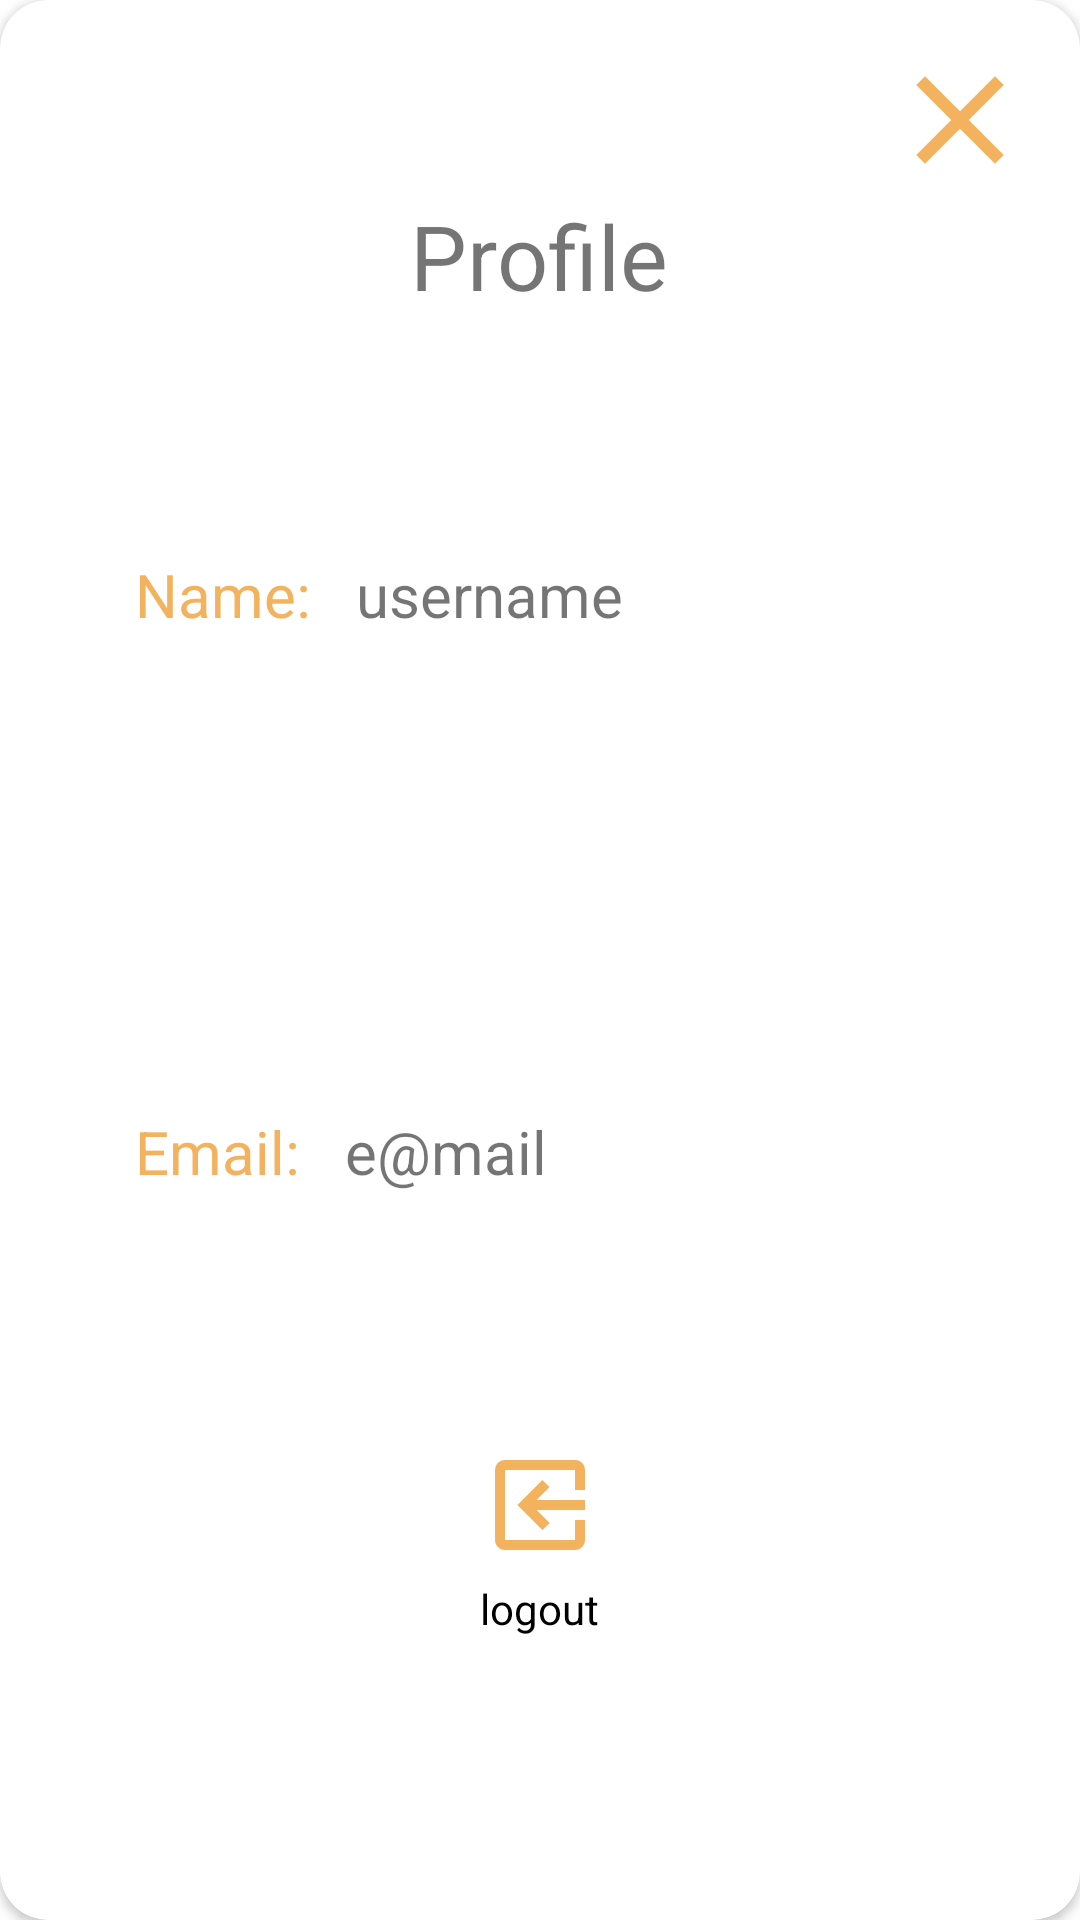

Where to tap for icons on this 1080*1920 app screen, as (x,y):
close: (960,120)
